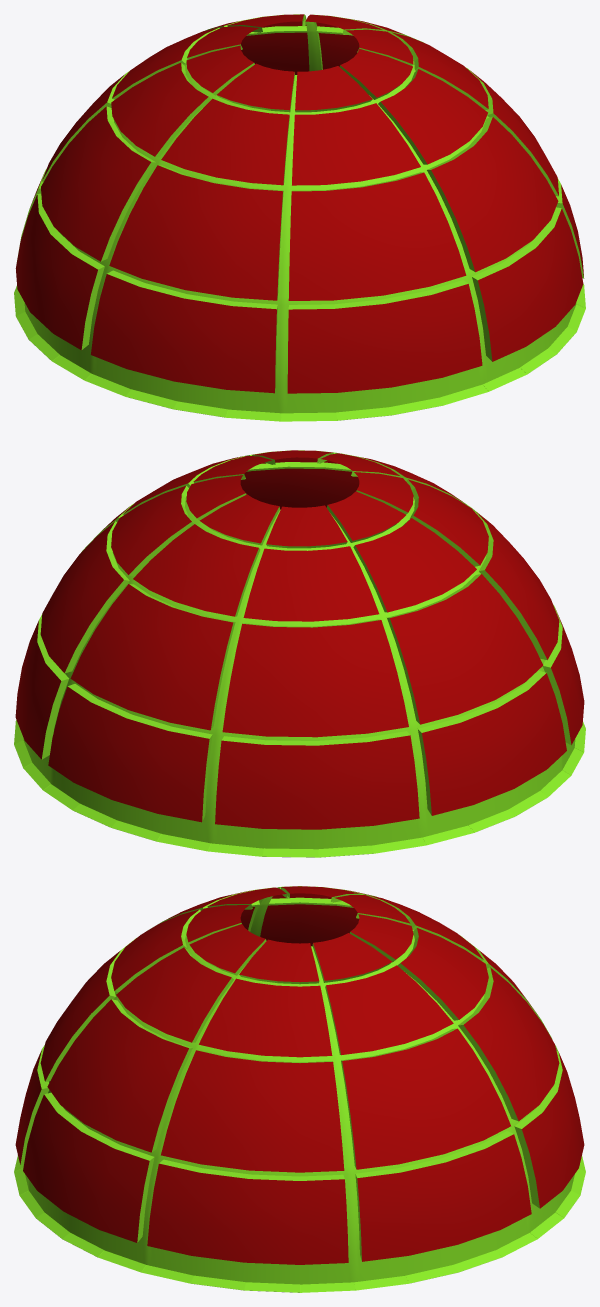
The model's file is Dome2.fbx.
3 views of the same model, one above another, from view 1: azimuth 30°, elevation 25°; view 2: azimuth 150°, elevation 25°; view 3: azimuth 270°, elevation 25° (orthographic).
Parts seen in each view (by area): view 1: pSphere6; view 2: pSphere6; view 3: pSphere6.
Boxes of the visible parts, x1,y1,x2,y2 form: pSphere6: (14,14,585,421); pSphere6: (14,450,585,857); pSphere6: (14,886,585,1292).
Size of the model in its own units: 314 by 154 by 314.
